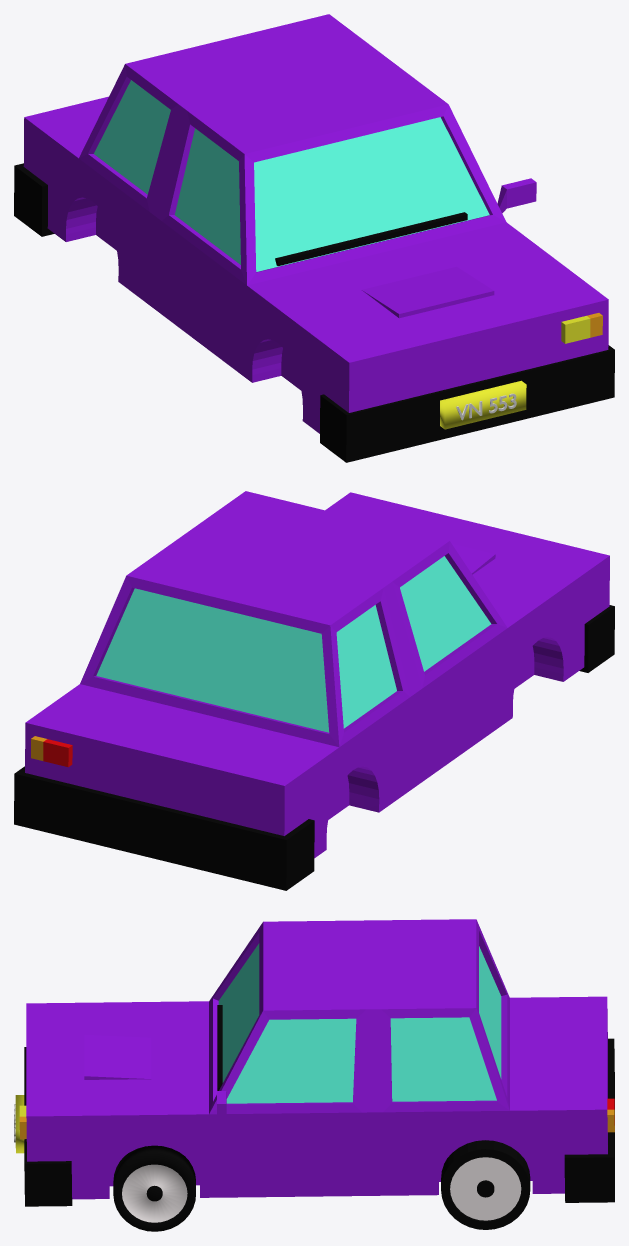
Rendered from Car.glb.
3 views of the same model, one above another, from view 1: azimuth 30°, elevation 25°; view 2: azimuth 150°, elevation 25°; view 3: azimuth 270°, elevation 25° (orthographic). The views are drawn at different scales.
Visible parts, largest first — view 1: Cube.018, Cube.020, Cube.023, Cube.021, Cube.024, Cube.019, Cube.022; view 2: Cube.018, Cube.021, Cube.020, Cube.016; view 3: Cube.018, Cylinder.004, Cylinder.003, Cube.021, Cube.020, Cube.024.
Part boxes in pixels (<box>): Cube.018: <box>23,14,608,433</box>; Cube.020: <box>320,345,614,462</box>; Cube.023: <box>440,380,526,429</box>; Cube.021: <box>14,163,54,236</box>; Cube.024: <box>275,212,467,265</box>; Cube.019: <box>561,313,602,343</box>; Cube.022: <box>497,178,536,213</box>; Cube.018: <box>25,491,609,858</box>; Cube.021: <box>14,766,314,890</box>; Cube.020: <box>579,605,614,672</box>; Cube.016: <box>31,736,72,767</box>; Cube.018: <box>26,919,607,1199</box>; Cylinder.004: <box>441,1140,530,1229</box>; Cylinder.003: <box>113,1145,195,1231</box>; Cube.021: <box>564,1038,614,1202</box>; Cube.020: <box>24,1047,72,1206</box>; Cube.024: <box>217,1005,222,1090</box>.
Bounding box in the file's own units: 3.26 × 2.43 × 6.34.
Materials: 8 (1 with a texture image).
